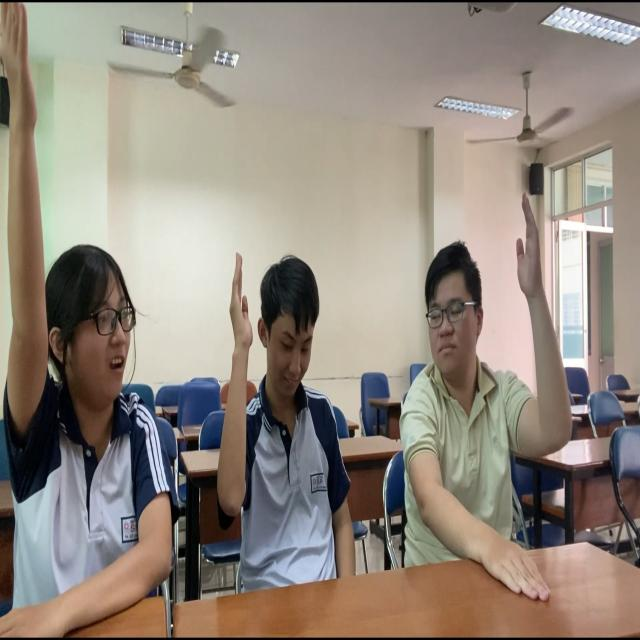raise_hand: (1, 1, 164, 640), (398, 181, 571, 603), (208, 220, 352, 583)
